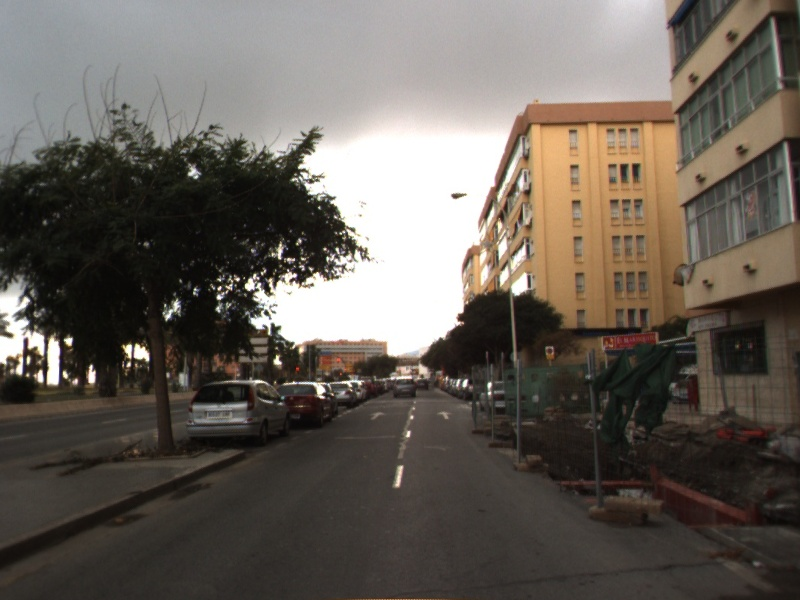STRAIGHT: (368, 410, 387, 421), (436, 410, 454, 420)
